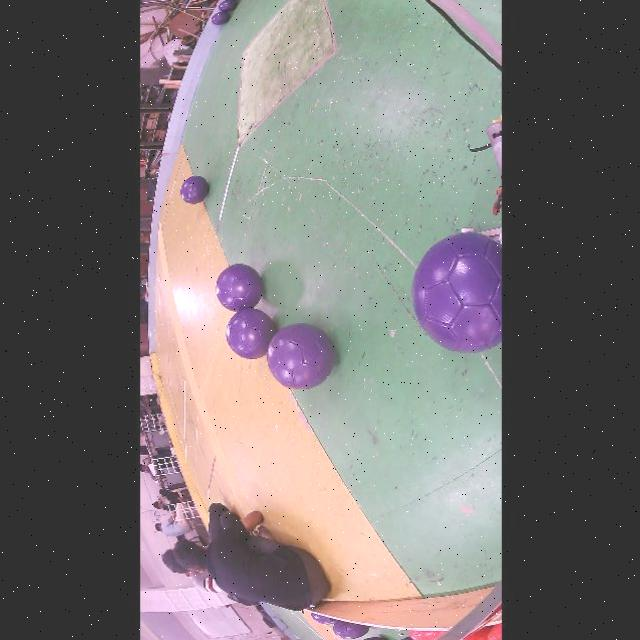P: (411, 232, 502, 354), (266, 324, 334, 390), (225, 308, 275, 359), (215, 264, 263, 312), (180, 175, 209, 204), (333, 620, 369, 639), (310, 612, 336, 624), (210, 12, 230, 25), (217, 0, 237, 12)
R: (462, 627, 492, 640), (409, 630, 446, 640), (487, 624, 502, 640)
